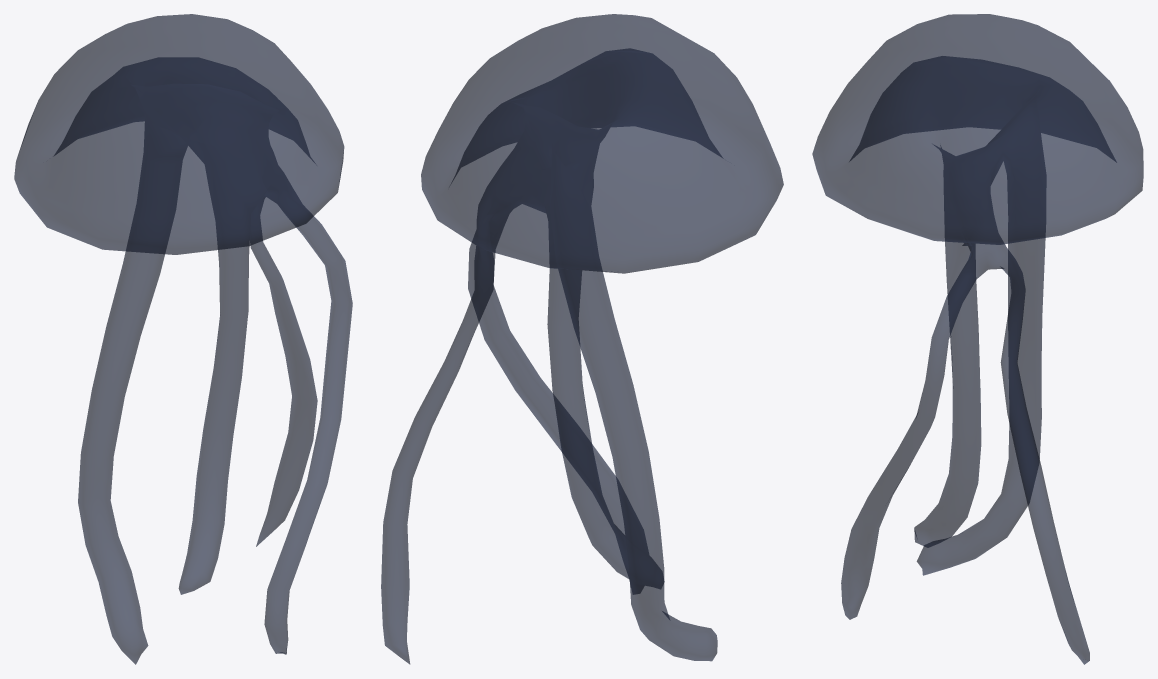
The model's file is jellyfish.obj.
The picture shows the model from 3 angles, left to right: view 1: azimuth 30°, elevation 25°; view 2: azimuth 150°, elevation 25°; view 3: azimuth 270°, elevation 25°; orthographic projection. The views are drawn at different scales.
Visible parts, largest first — view 1: Object_20; view 2: Object_20; view 3: Object_20.
Part boxes in pixels (x1=…): Object_20: x1=14, y1=14, x2=352, y2=664; Object_20: x1=381, y1=14, x2=783, y2=664; Object_20: x1=812, y1=14, x2=1143, y2=664.
Bounding box in the file's own units: 172 × 314 × 162.
